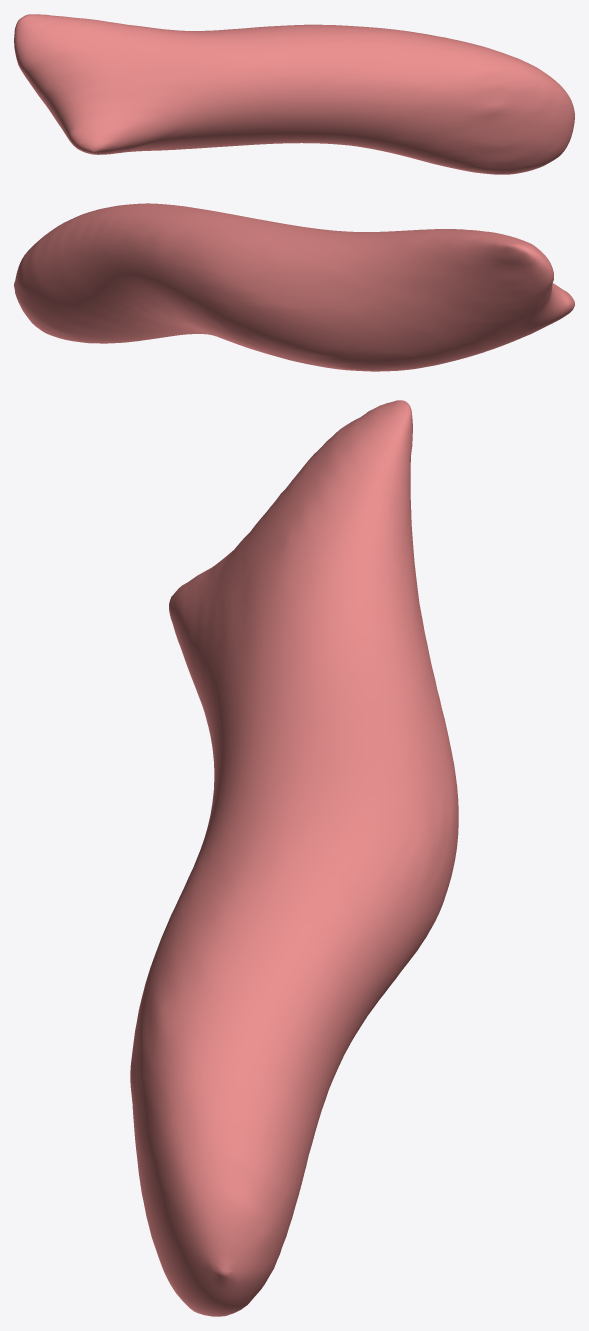
File: diseased.glb
3 views of the same model, one above another, from view 1: azimuth 30°, elevation 25°; view 2: azimuth 150°, elevation 25°; view 3: azimuth 270°, elevation 25° (orthographic). The views are drawn at different scales.
Size of the model in its own units: 89.43 by 37.59 by 24.4.
